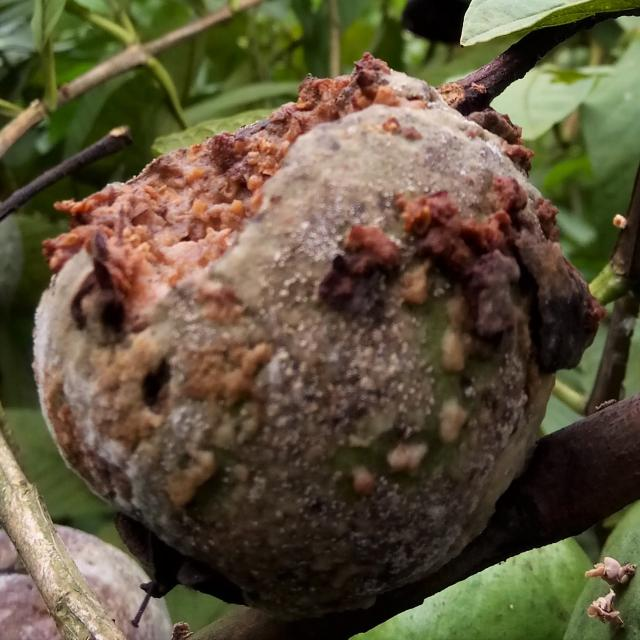Phytopthora: (35, 55, 602, 617)
